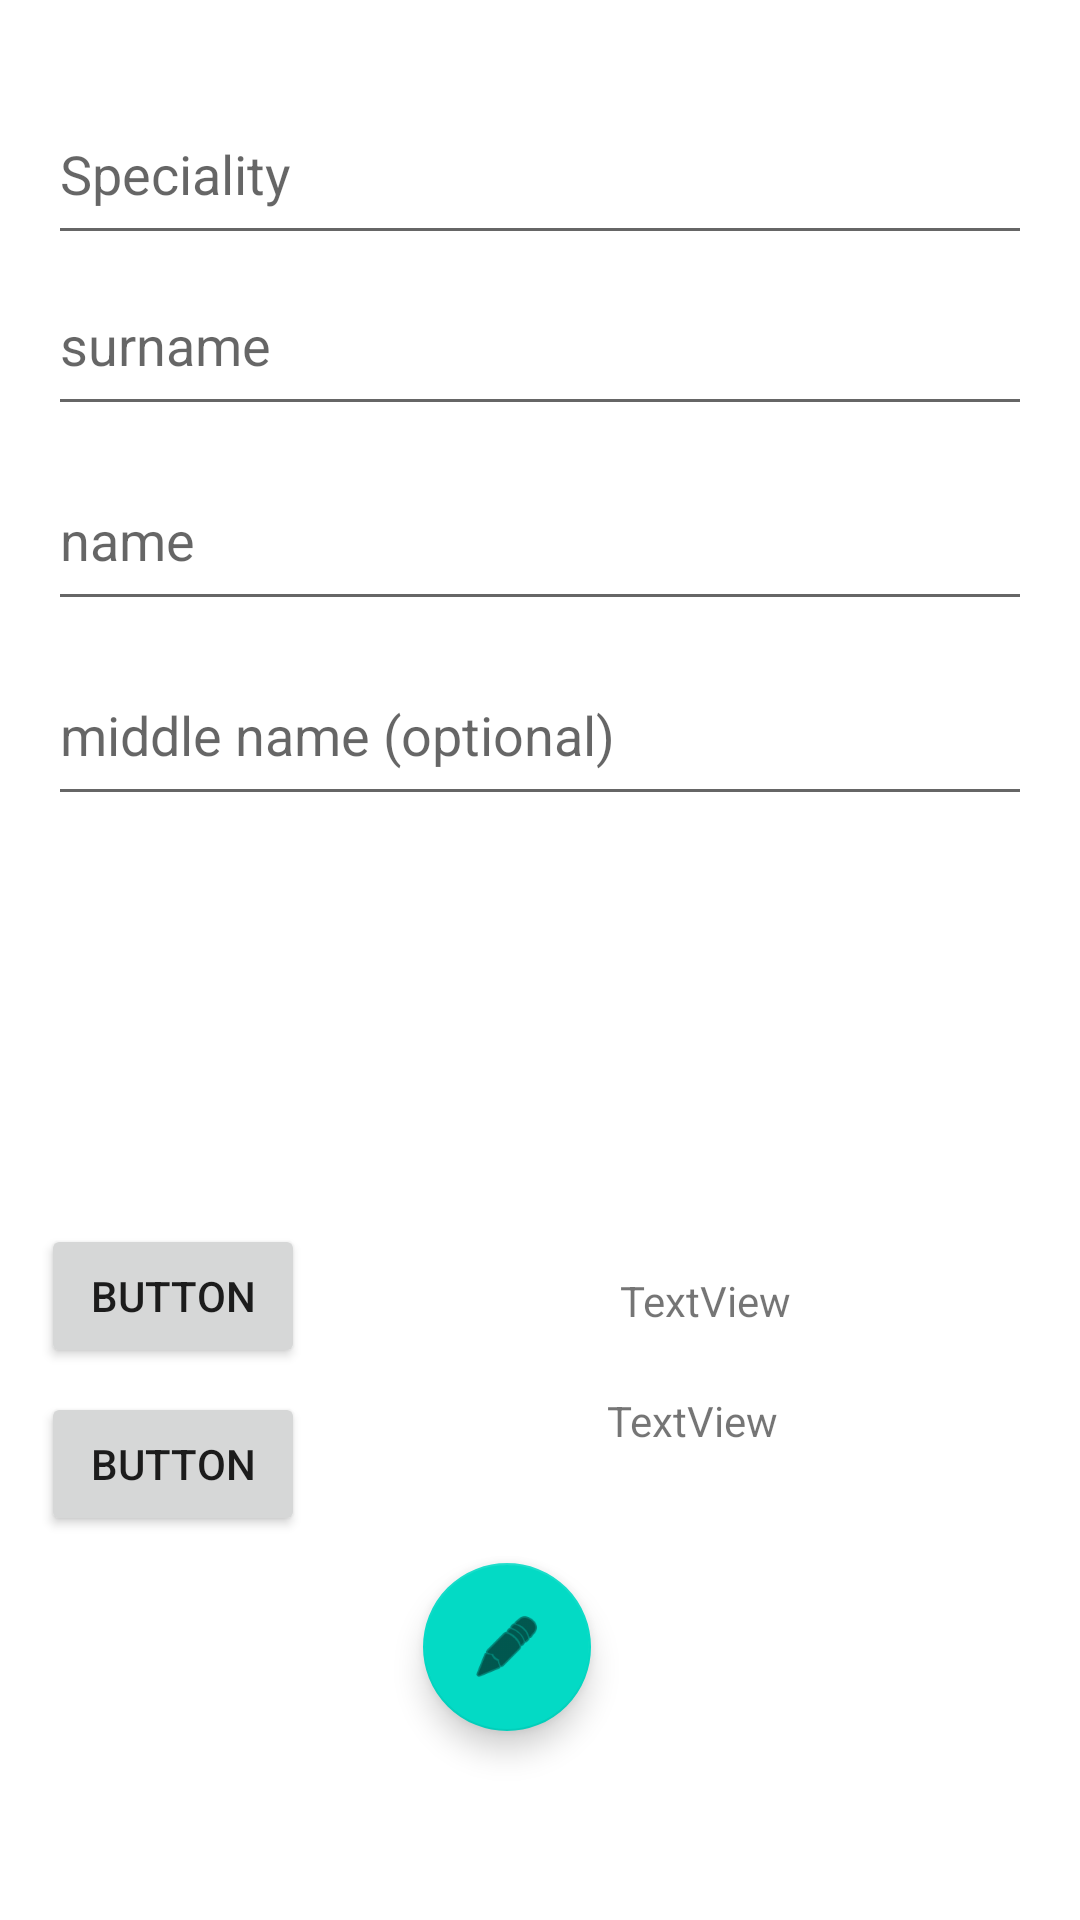

Named icons in this screenshot (1080×1920) and their bounding boxes, rect(x1, y1, x2, y2):
edit: rect(423, 1563, 591, 1731)
